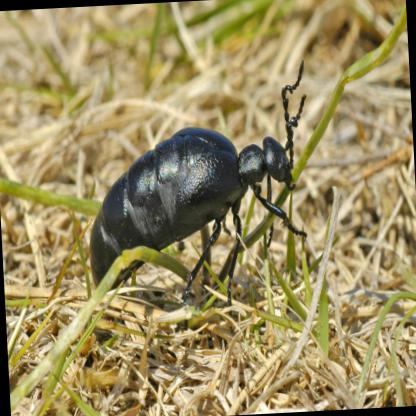blister beetle: (89, 72, 307, 302)
